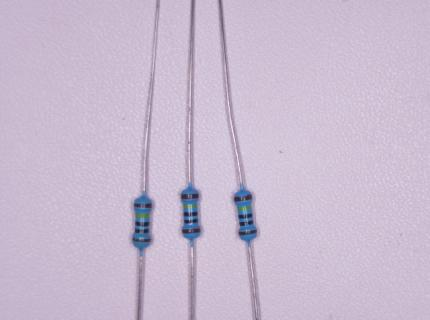Black band: (239, 219, 254, 226), (238, 213, 253, 218), (183, 218, 198, 223), (183, 212, 198, 217), (135, 221, 150, 226), (134, 228, 149, 233)
Brown band: (234, 194, 253, 202), (238, 229, 257, 236), (181, 193, 199, 199), (182, 228, 200, 234), (132, 237, 151, 242), (133, 203, 152, 208)
Yellow band: (237, 205, 251, 211), (135, 213, 149, 218), (183, 204, 197, 208)
